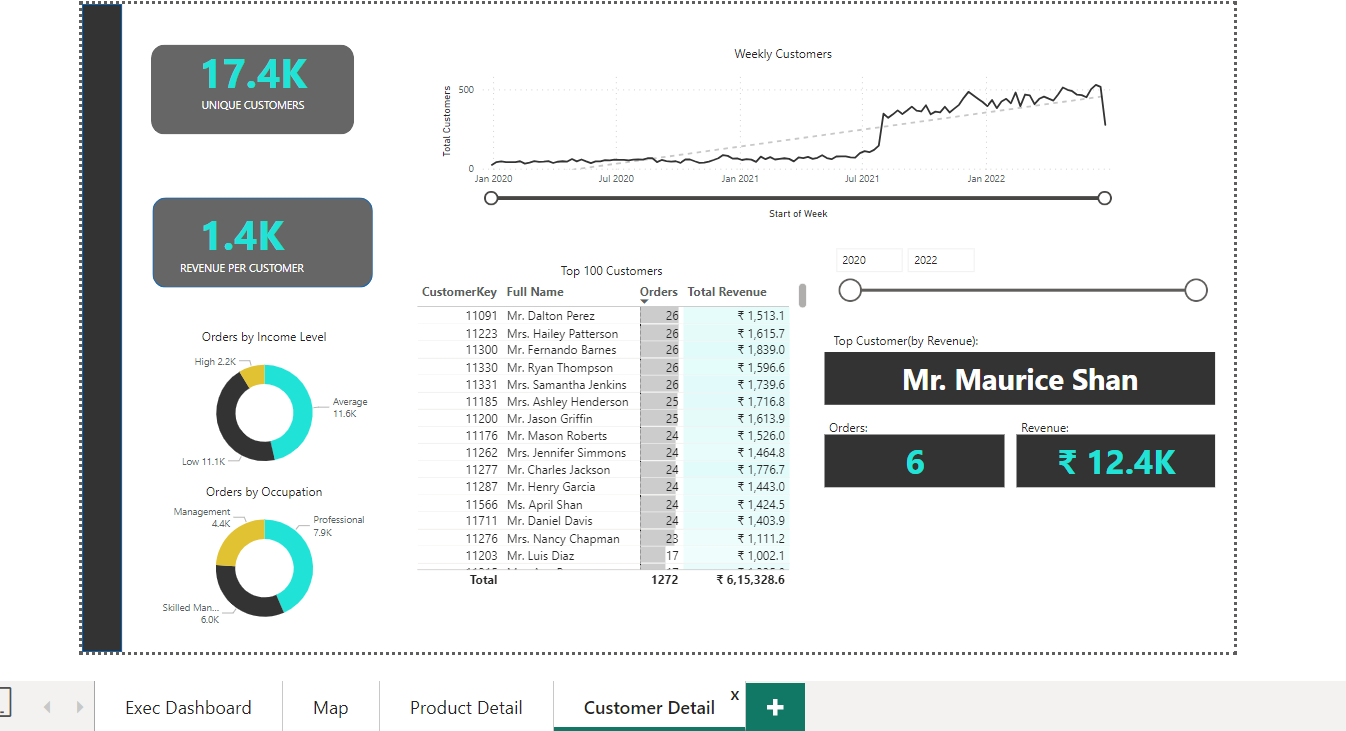

Layout of this report page (visuals, bound fields, positions):
{"tool":"powerbi","page":{"name":"Customer Detail","canvas":[1280,720],"ordinal":3},"visuals":[{"type":"shape","box":[0,0,44.5,720],"z":0},{"type":"shape","box":[77.4,44.5,225.7,100.1],"z":1000},{"type":"shape","box":[78.9,215.6,244.8,100.1],"z":2000},{"type":"card","fields":{"Values":["Measure Table.Total Customers"]},"box":[77.4,17.5,225.7,130.3],"z":3000},{"type":"card","fields":{"Values":["Measure Table.Average Revenue per Customer"]},"box":[52.5,208.2,251.1,108.1],"z":4000},{"type":"lineChart","title":"Weekly Customers","fields":{"Y":["Measure Table.Total Customers"],"Category":["Calendar Lookup.Date Hierarchy.Start of Year","Calendar Lookup.Date Hierarchy.Start of Month","Calendar Lookup.Date Hierarchy.Start of Week","Calendar Lookup.Date Hierarchy.Date"]},"box":[394.2,44.5,767.7,198.7],"z":5000},{"type":"donutChart","title":"Orders by Income Level","fields":{"Category":["Customer Lookup.Income Level"],"Y":["Measure Table.Total Orders"]},"box":[79.5,360.8,244.8,170.1],"z":6000},{"type":"donutChart","title":"Orders by Occupation","fields":{"Y":["Measure Table.Total Orders"],"Category":["Customer Lookup.Occupation"]},"box":[79.5,530.9,244.8,171.7],"z":7000},{"type":"tableEx","title":"Top 100 Customers","fields":{"Values":["Customer Lookup.CustomerKey","Customer Lookup.Full Name","Measure Table.Total Orders","Measure Table.Total Revenue"]},"box":[367.2,286.1,443.4,365.6],"z":8000},{"type":"card","fields":{"Values":["Customer Lookup.Full Name"]},"box":[824.9,387.4,433.9,58.8],"z":9000},{"type":"card","fields":{"Values":["Measure Table.Total Orders"]},"box":[824.9,478.4,200.3,58.8],"z":10000},{"type":"card","fields":{"Values":["Measure Table.Total Revenue"]},"box":[1037.9,478.4,220.9,58.8],"z":11000},{"type":"textbox","box":[829.7,358.4,200.3,42.9],"z":12000},{"type":"textbox","box":[824.9,454.6,200.3,41.3],"z":13000},{"type":"textbox","box":[1037.9,454.6,220.9,39.7],"z":14000},{"type":"slicer","fields":{"Values":["Calendar Lookup.Year"]},"box":[824.9,262.3,433.9,79.5],"z":15000}]}

Visuals, with their boxes on the page's 1280x720 design canvas (x1, y1, x2, y2). These are canvas units, not pixel positions in the 1346x731 screenshot, which may show the page scaled, cropped or inside an application window:
shape: bbox(0, 0, 44, 720)
shape: bbox(77, 44, 303, 145)
shape: bbox(79, 216, 324, 316)
card - Measure Table.Total Customers: bbox(77, 18, 303, 148)
card - Measure Table.Average Revenue per Customer: bbox(52, 208, 304, 316)
"Weekly Customers" lineChart: bbox(394, 44, 1162, 243)
"Orders by Income Level" donutChart: bbox(80, 361, 324, 531)
"Orders by Occupation" donutChart: bbox(80, 531, 324, 703)
"Top 100 Customers" tableEx: bbox(367, 286, 811, 652)
card - Customer Lookup.Full Name: bbox(825, 387, 1259, 446)
card - Measure Table.Total Orders: bbox(825, 478, 1025, 537)
card - Measure Table.Total Revenue: bbox(1038, 478, 1259, 537)
textbox: bbox(830, 358, 1030, 401)
textbox: bbox(825, 455, 1025, 496)
textbox: bbox(1038, 455, 1259, 494)
slicer - Calendar Lookup.Year: bbox(825, 262, 1259, 342)
